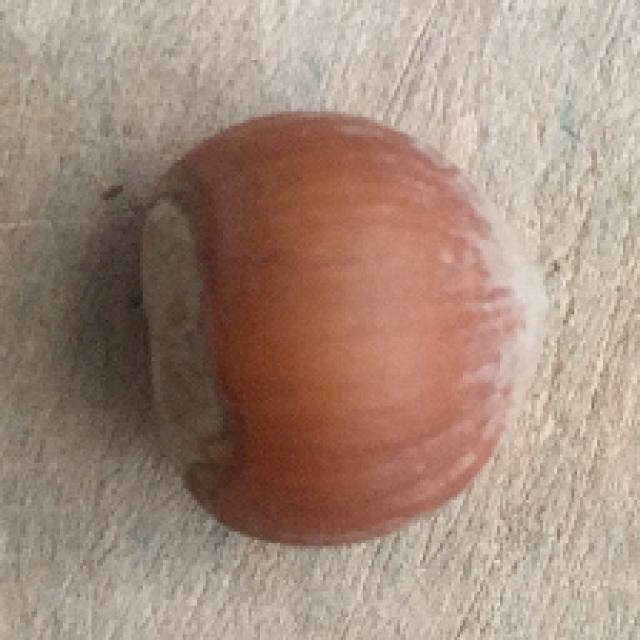qualityHazelnut: (125, 107, 544, 554)
